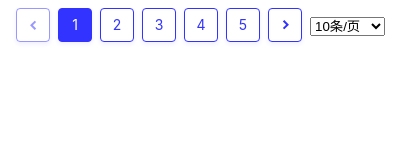
Test: ✨️ Pagination correctly › render show pageSize Select
This screenshot has width=402, height=160.
Step 1. Select "50条/页" in the dropdown → {"x": 348, "y": 26}, box [310,16,385,36]
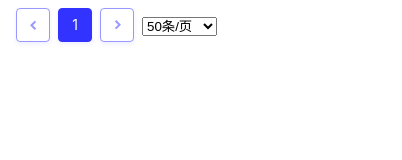
Expected: the number of list items is 4, [16,8,50,42]; [58,8,92,42]; [100,8,134,42]; [142,14,217,36]
